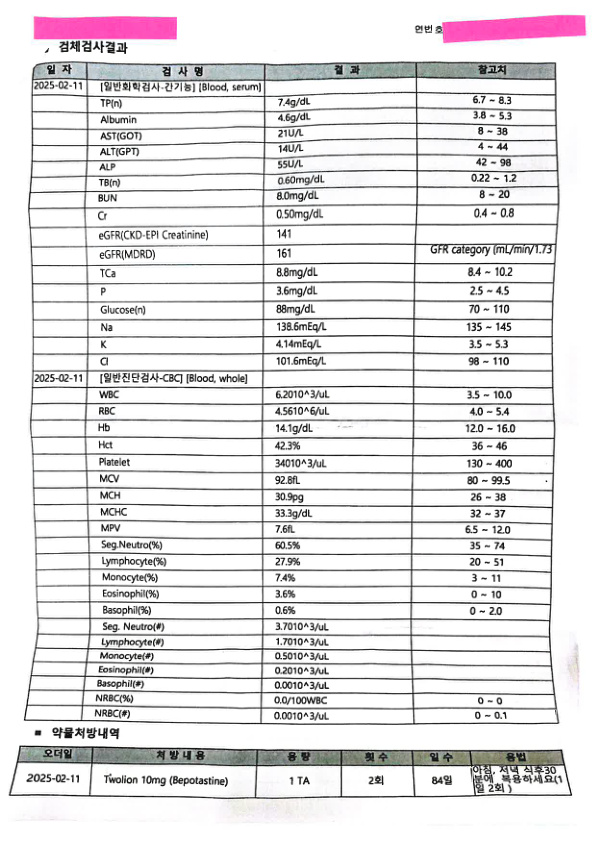row: (13, 763, 569, 800), (19, 745, 564, 768), (24, 335, 553, 357), (23, 244, 556, 265), (26, 436, 554, 457), (31, 586, 550, 607), (29, 691, 555, 711), (27, 521, 552, 541), (25, 62, 556, 81), (24, 284, 555, 303), (25, 404, 554, 423), (25, 303, 552, 322), (28, 386, 553, 405), (29, 456, 554, 475), (27, 505, 551, 524), (29, 489, 551, 508), (29, 602, 551, 621), (29, 570, 550, 589), (31, 662, 551, 681), (34, 619, 550, 638), (35, 633, 551, 652), (23, 189, 559, 207), (23, 208, 559, 226), (24, 266, 555, 284), (25, 320, 553, 338), (28, 421, 554, 439), (27, 354, 552, 372), (26, 370, 551, 388), (29, 474, 553, 492), (30, 677, 552, 695), (33, 648, 550, 666), (22, 172, 559, 189), (23, 227, 556, 244), (23, 79, 555, 96), (30, 539, 549, 556), (24, 95, 556, 111), (29, 707, 556, 723), (29, 555, 550, 571), (23, 111, 556, 126), (23, 158, 557, 172), (24, 128, 556, 142), (24, 143, 556, 157)
